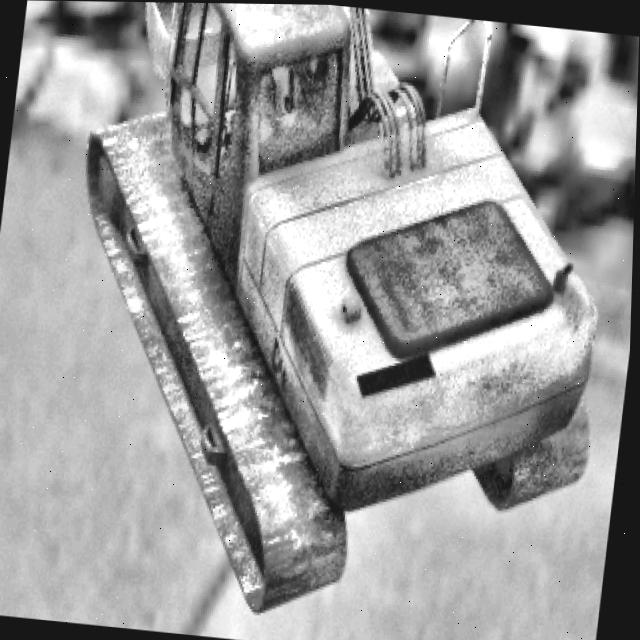excavator: (34, 1, 636, 640)
